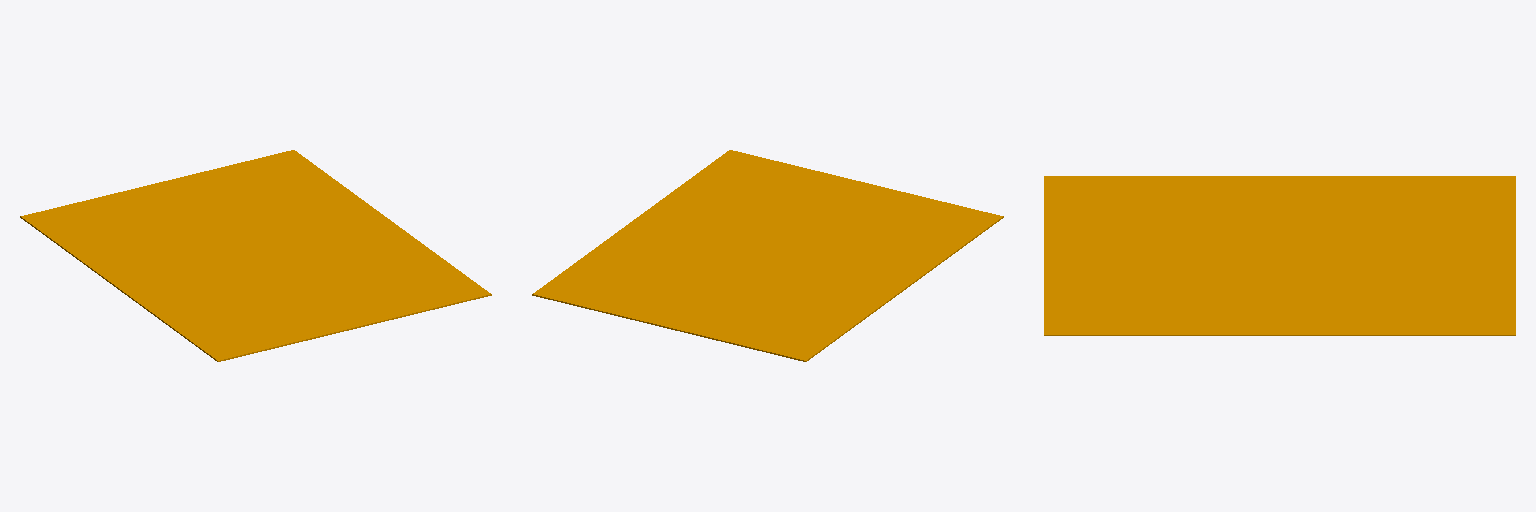
The robot description file, URDF, robot "carpet":
<!-- -->
<robot name="carpet">

<static>true</static>
  <link name="carpet">
<static>true</static>
    <inertial>
      <origin xyz="0 0 0" /> 
      <mass value="0.1" />
      <inertia  ixx="1.0" ixy="0.0"  ixz="0.0"  iyy="1.0"  iyz="0.0"  izz="1.0" />
    </inertial>
    <visual>
      <origin xyz="0 0 0" rpy="0 0 0"/>
      <geometry>
        <box size="2.0 2.5 0.01" />

      </geometry>
    </visual>
<!--
    <collision>
      <origin xyz="0 0 0" rpy="0 0 0"/>
      <geometry>
        <box size="2.0 2.5 0.01" />
      </geometry>
    </collision>
-->  
</link>
  <gazebo reference="carpet">
    <material>carpet</material>
    <turnGravityOff>true</turnGravityOff>
    <static>true</static>
  </gazebo>
</robot>

--- Render facts (derived) ---
3 views of the same robot in one strip: view 1: azimuth 30°, elevation 25°; view 2: azimuth 150°, elevation 25°; view 3: azimuth 270°, elevation 25° (orthographic).
Robot: carpet — 1 links, 0 joints (none); root link carpet; default pose: every joint at zero.
Links seen in each view (by area): view 1: carpet; view 2: carpet; view 3: carpet.
Link boxes in pixels (left/top/right/bottom): carpet: left=20, top=150, right=491, bottom=361; carpet: left=532, top=150, right=1003, bottom=361; carpet: left=1044, top=176, right=1515, bottom=335.
Bounding box of the posed robot: 2 × 2.5 × 0.01 m (x, y, z).
Geometry: primitives only (box / cylinder / sphere), no mesh files.
